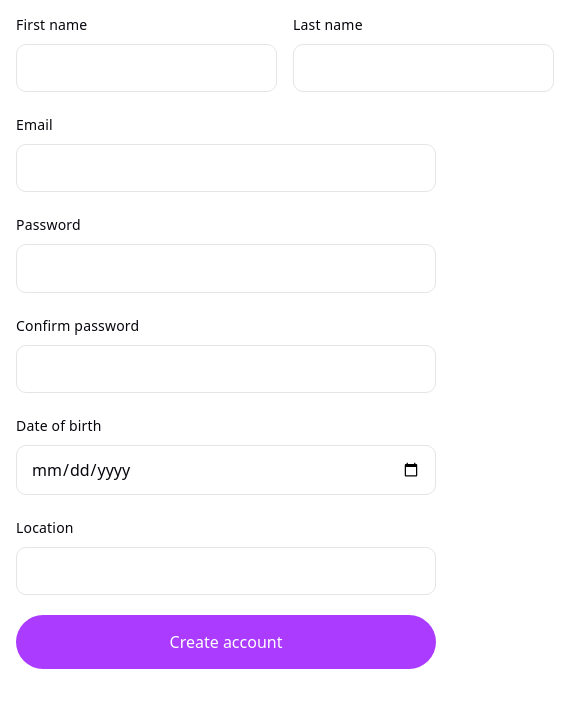
Test: RegisterForm › shows a password-mismatch field error returned by the server
Type "Jane" into the field labelled "First name" at (146, 68), box [16, 44, 277, 92]
Type "Doe" into the field labelled "Last name" at (424, 68), box [293, 44, 554, 92]
Type "jane@example.com" into the field labelled "Email" at (226, 168), box [16, 144, 436, 192]
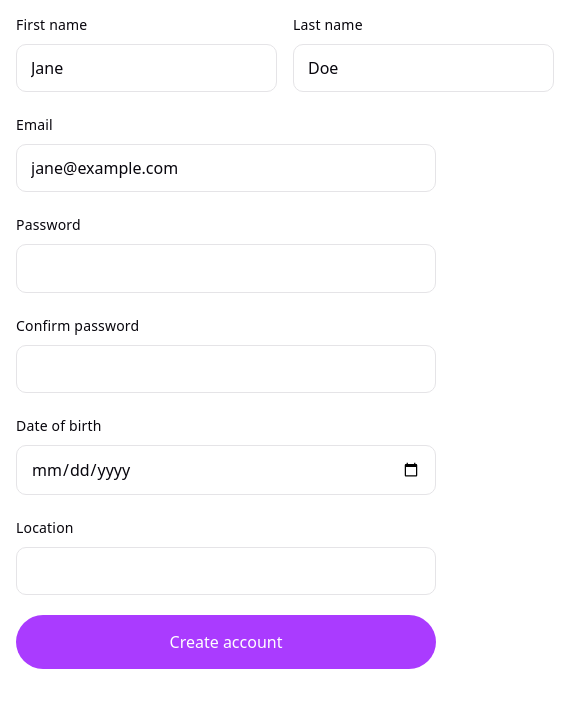
Type "Str0ngPass1" into the password field labelled "Password" at (226, 269), box [16, 244, 436, 293]
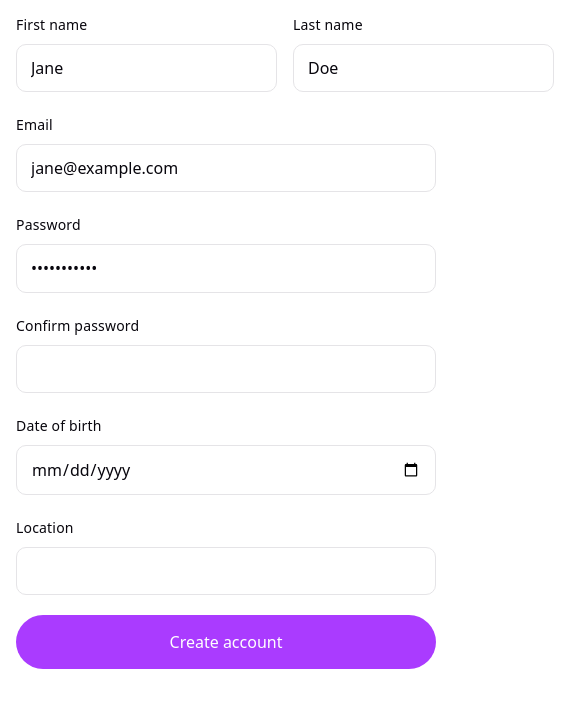
Type "Str0ngPass1" into the password field labelled "Confirm password" at (226, 369), box [16, 345, 436, 393]
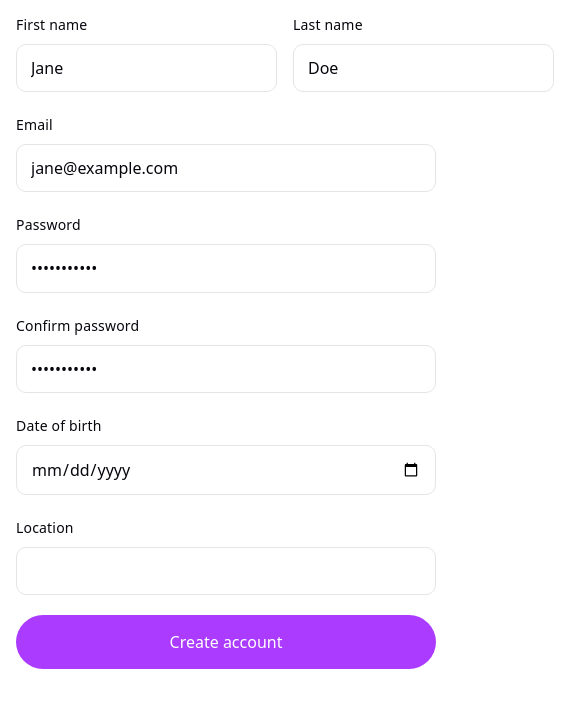
Type "1998-04-12" into the date field labelled "Date of birth" at (226, 470), box [16, 445, 436, 495]
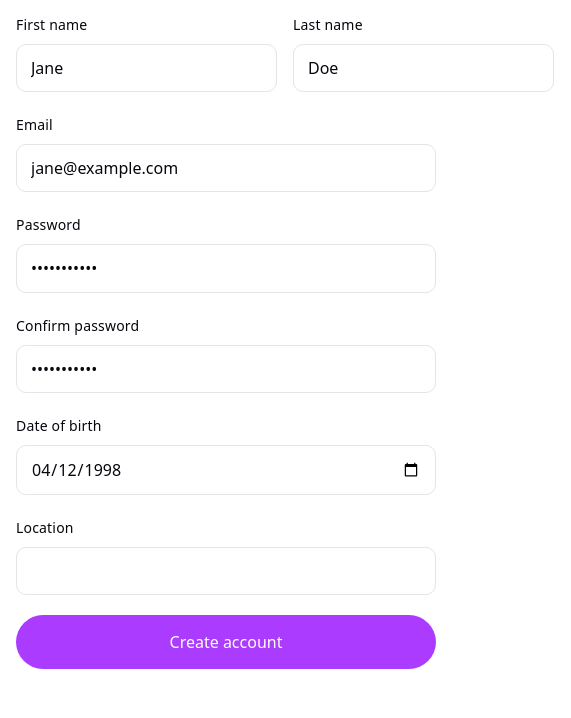
Type "Berlin" into the field labelled "Location" at (226, 571), box [16, 547, 436, 595]
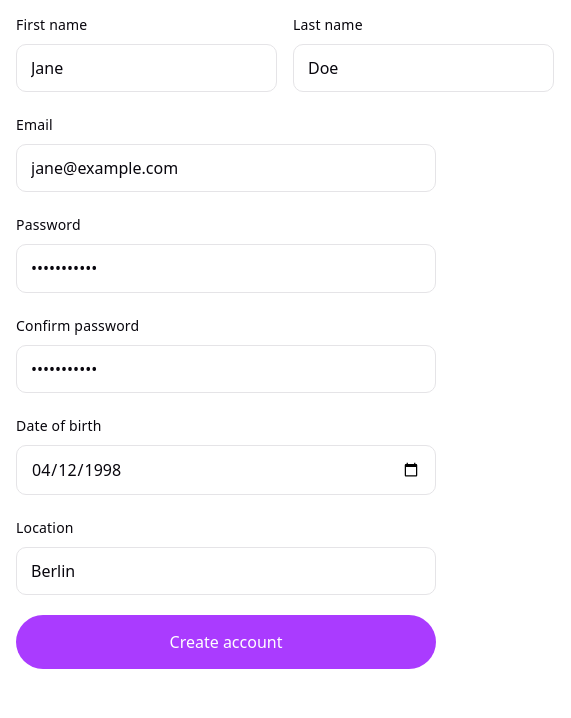
Click the button "Create account" at (226, 642), box [16, 615, 436, 669]
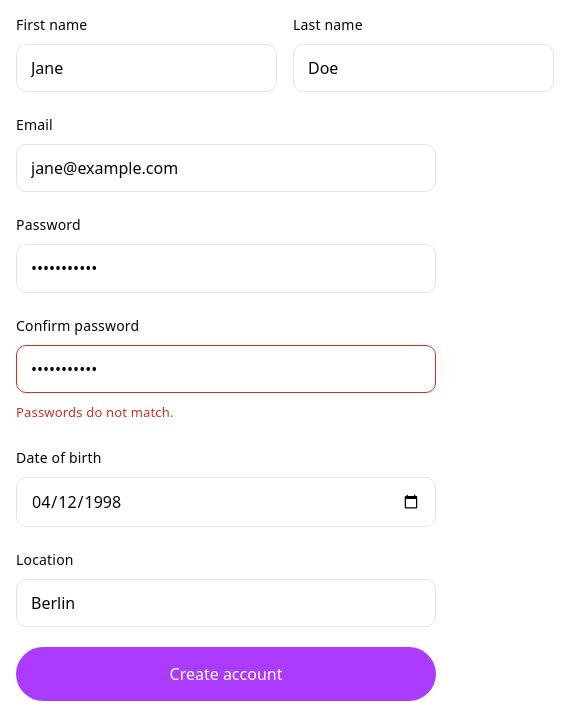
Check: the text "Passwords do not match." is shown, box [16, 403, 174, 421]
